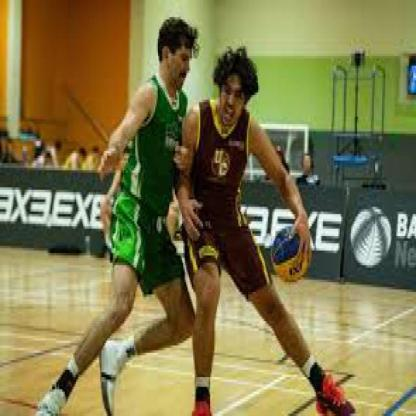basketball: (272, 226, 309, 285)
